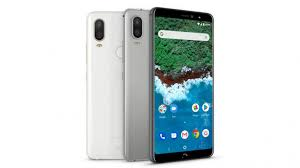vsmart: (147, 5, 218, 167)
